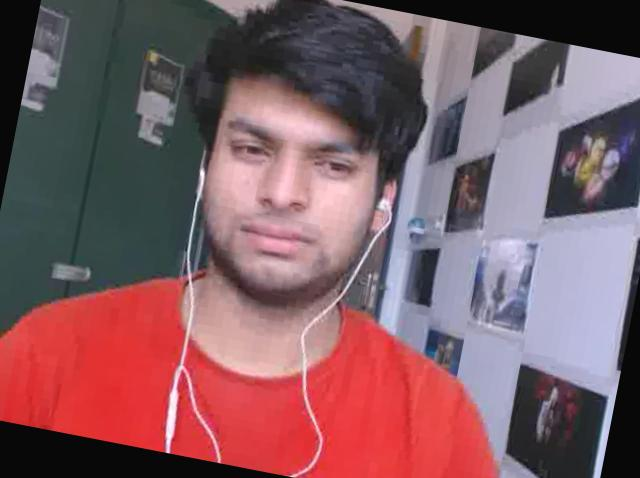bingung: (188, 66, 398, 306)
